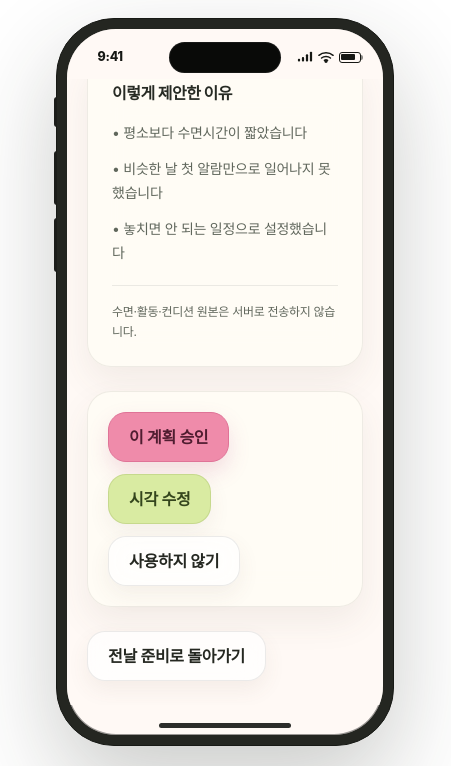
Scenario: WakePlanReview › renders and approves the local two-step exam recommendation
This screenshot has width=451, height=766.
(page scrolled)
Expected: the list item "• 평소보다 수면시간이 짧았습니다" is shown, [112,121,338,145]
Click the button "이 계획 승인" at (169, 437), box [108,412,229,462]
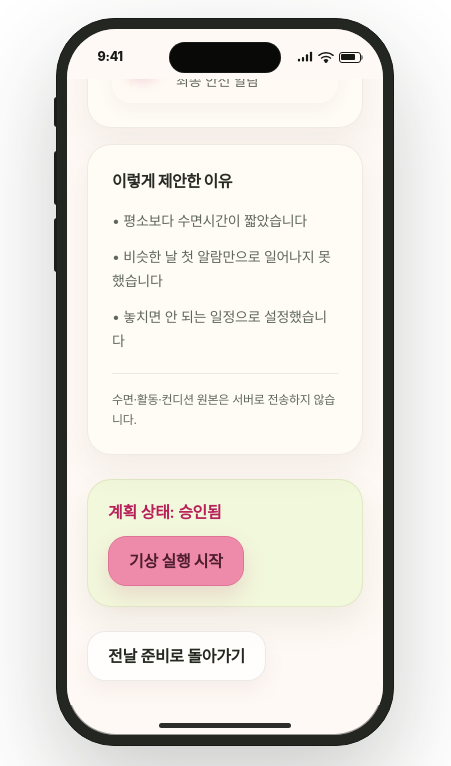
Now the text "계획 상태: 승인됨" is shown, box [108,502,221,522]
